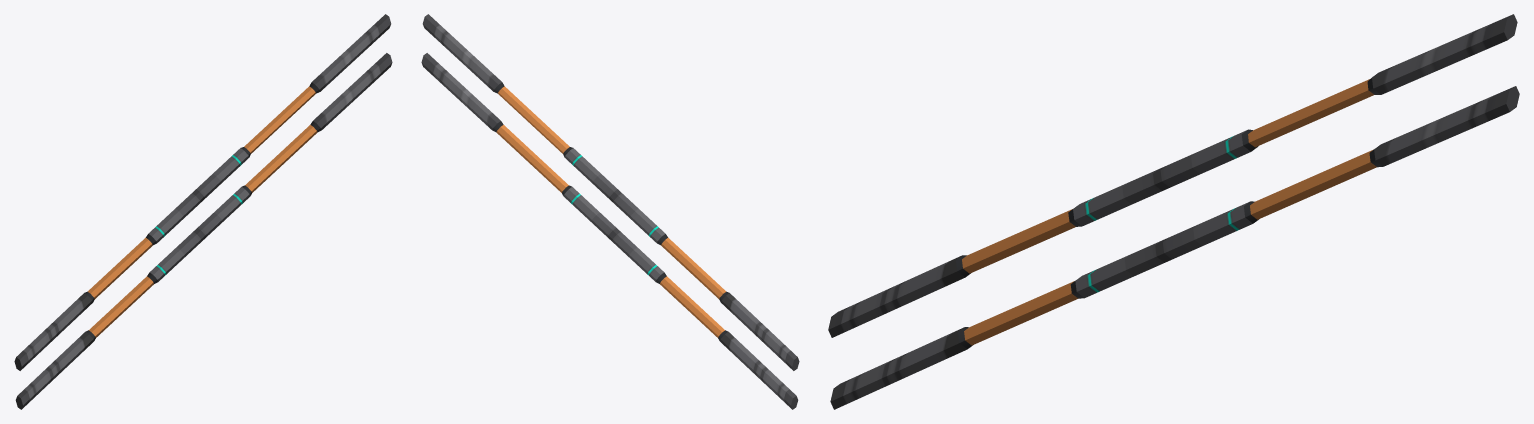
File: SM_Bld_Railing_Rail_Stairs_01_Alt_01.fbx
3 views of the same model, side by side, from view 1: azimuth 30°, elevation 25°; view 2: azimuth 150°, elevation 25°; view 3: azimuth 330°, elevation 25° (orthographic). The views are drawn at different scales.
Parts seen in each view (by area): view 1: SM_Bld_Railing_Rail_Stairs_01_Alt_01; view 2: SM_Bld_Railing_Rail_Stairs_01_Alt_01; view 3: SM_Bld_Railing_Rail_Stairs_01_Alt_01.
Part boxes in pixels (x1,y1,x2,y2): SM_Bld_Railing_Rail_Stairs_01_Alt_01: [14, 14, 392, 409]; SM_Bld_Railing_Rail_Stairs_01_Alt_01: [421, 14, 799, 409]; SM_Bld_Railing_Rail_Stairs_01_Alt_01: [828, 14, 1519, 409].
Bounding box in the file's own units: 249 × 195 × 8.59.
